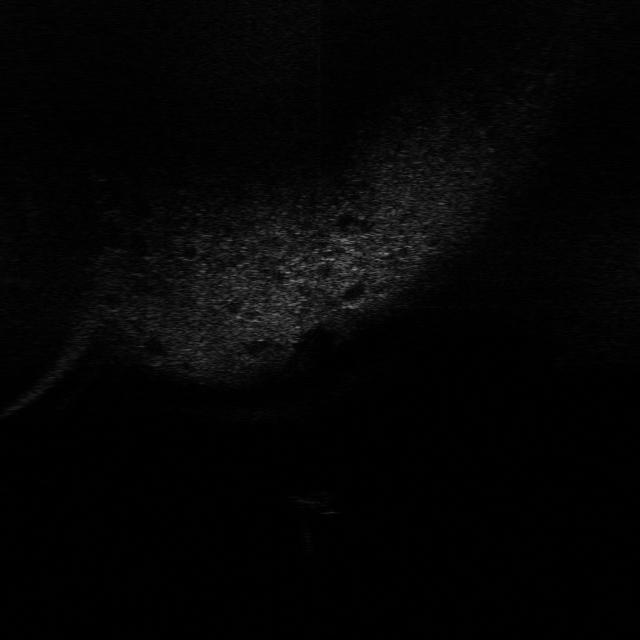cube: (282, 484, 343, 518)
